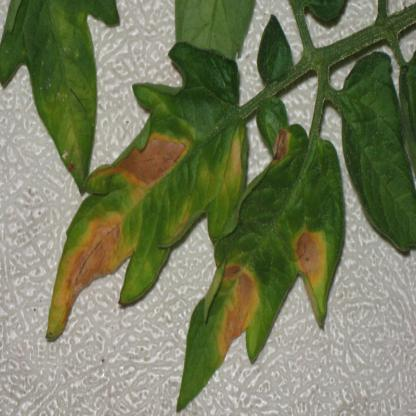Potato leaf late blight: (44, 34, 246, 325), (192, 127, 343, 390)
